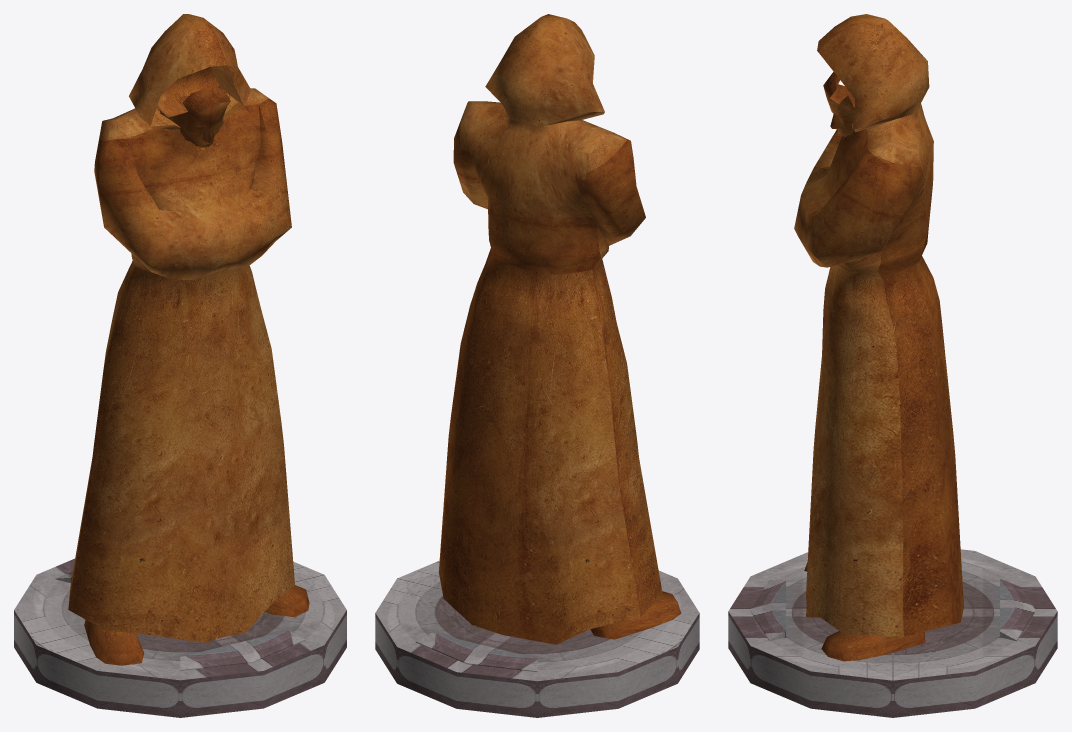
The model's file is Cor1_prop_statue.fbx.
The picture shows the model from 3 angles, left to right: view 1: azimuth 30°, elevation 25°; view 2: azimuth 150°, elevation 25°; view 3: azimuth 270°, elevation 25°; orthographic projection. The views are drawn at different scales.
Parts seen in each view (by area): view 1: body, cylinder, feet, cor1_prop_statue, cylinder1; view 2: body, cylinder, cylinder2, feet; view 3: body, cylinder, feet, cylinder2, cylinder1, cor1_prop_statue.
Part boxes in pixels (x1,y1,x2,y2): body: (68, 14, 294, 642); cylinder: (14, 558, 346, 717); feet: (84, 585, 309, 665); cor1_prop_statue: (157, 85, 230, 149); cylinder1: (180, 630, 305, 670); body: (438, 14, 662, 644); cylinder: (375, 560, 699, 717); cylinder2: (416, 632, 537, 671); feet: (590, 591, 681, 639); body: (794, 14, 963, 637); cylinder: (728, 549, 1057, 717); feet: (804, 562, 925, 661); cylinder2: (1000, 579, 1035, 641); cylinder1: (750, 579, 785, 641); cor1_prop_statue: (823, 71, 855, 138).
Size of what is drawn, in the model's own units: 8 by 16.9 by 8.
